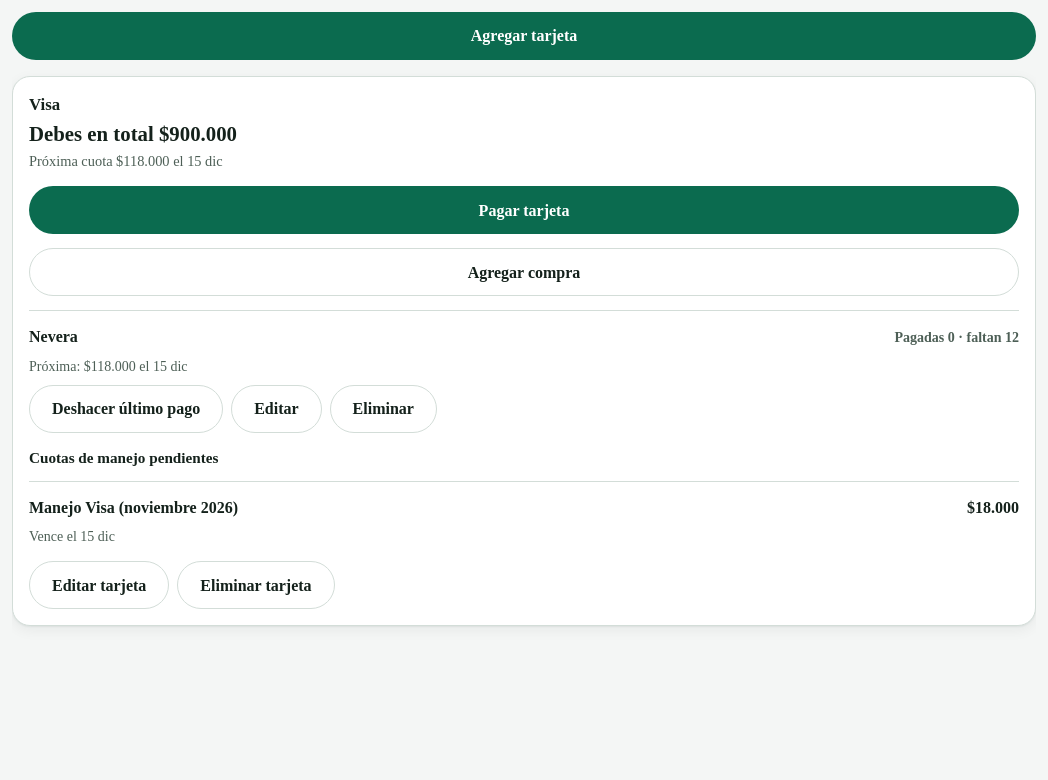
I3, I5, M3, M4 en la lista › I5: el texto de deshacer cuota
Step 1. Click the button with aria-label "Deshacer último pago: Nevera" → (126, 409), box [29,385,223,433]
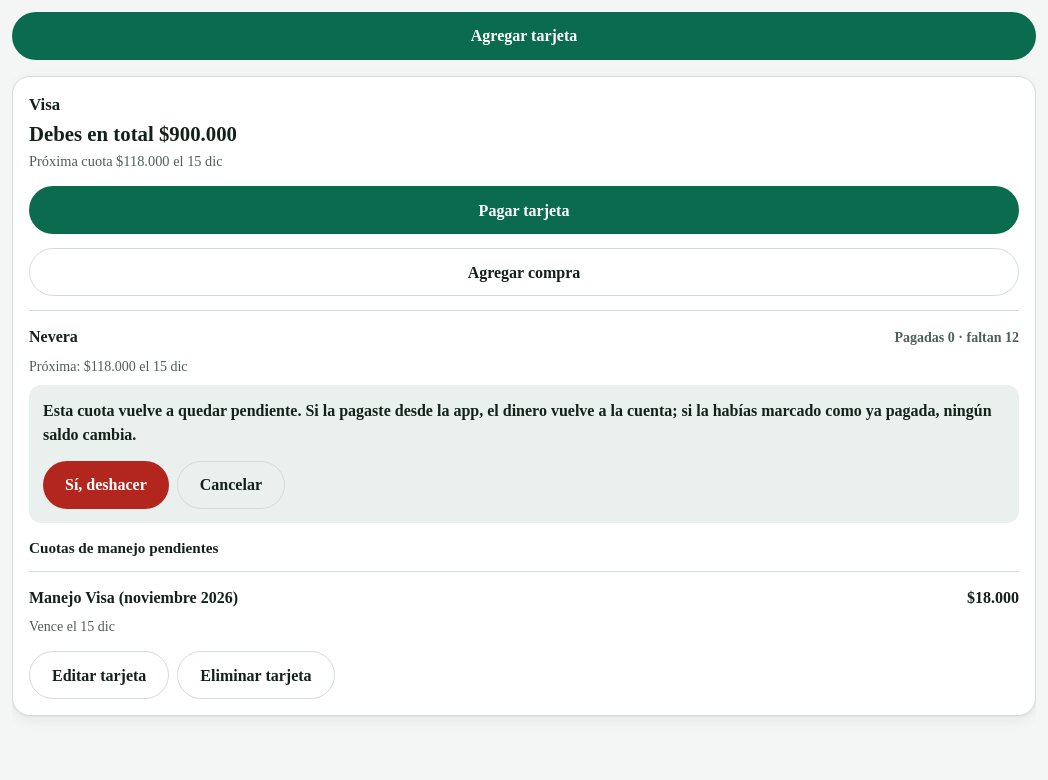
Expected: the text "Esta cuota vuelve a quedar pendiente. Si la pagaste desde la app, el dinero vuelve a la cuenta; si la habías marcado com" is shown, [43,402,992,443]
